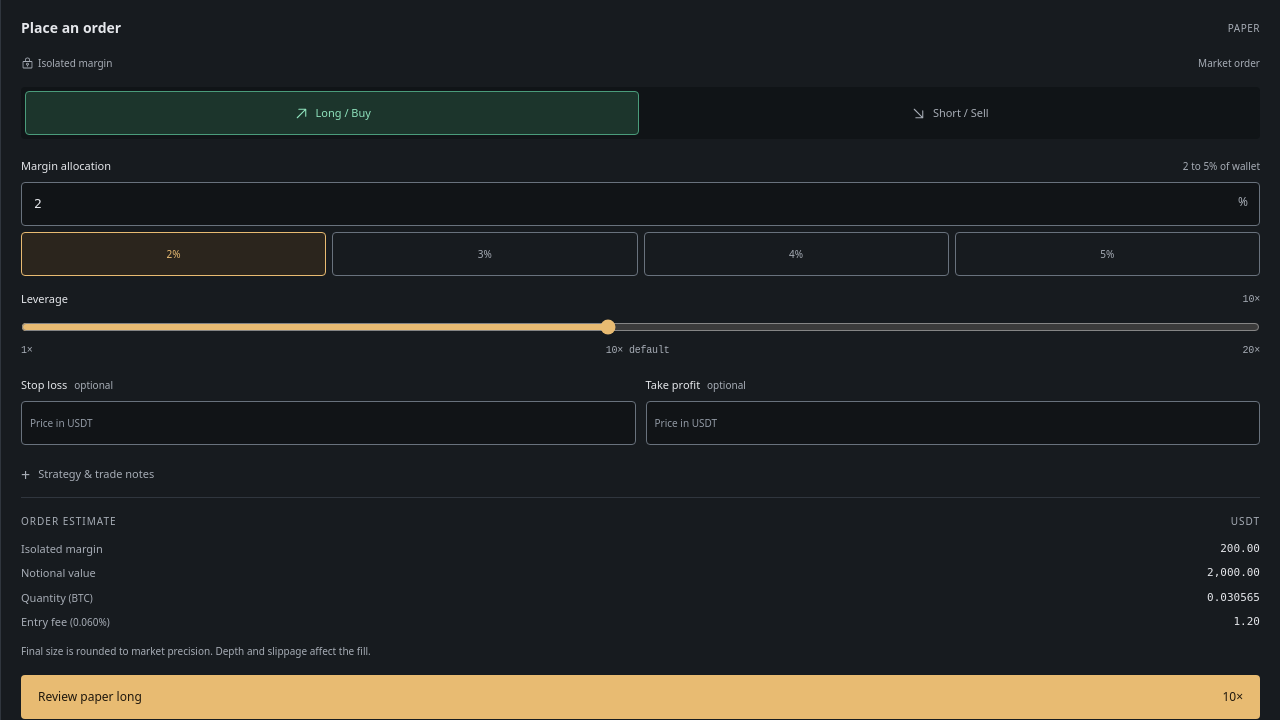
rejects invalid directional brackets
The image size is (1280, 720).
Type "66000" into the number field labelled "Stop loss optional" at (328, 423), box [21, 401, 636, 445]
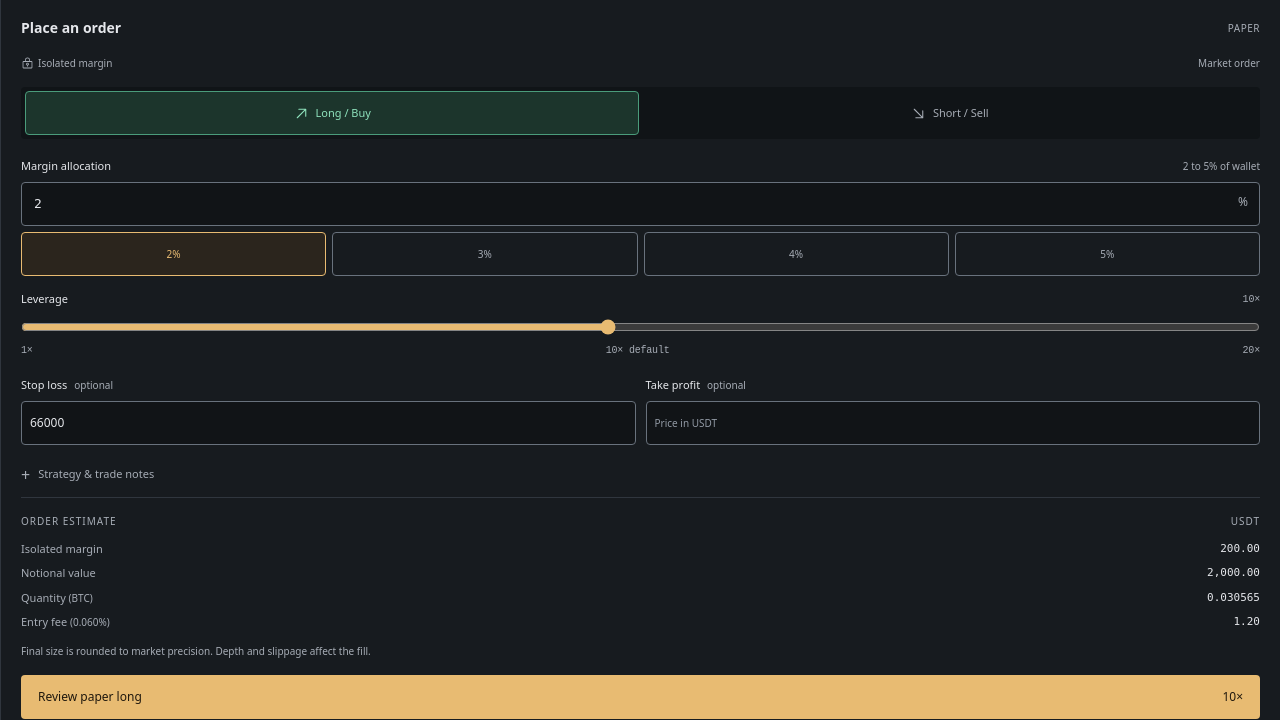
Click the button "Review paper long 10×" at (77, 696), box [21, 675, 1260, 719]
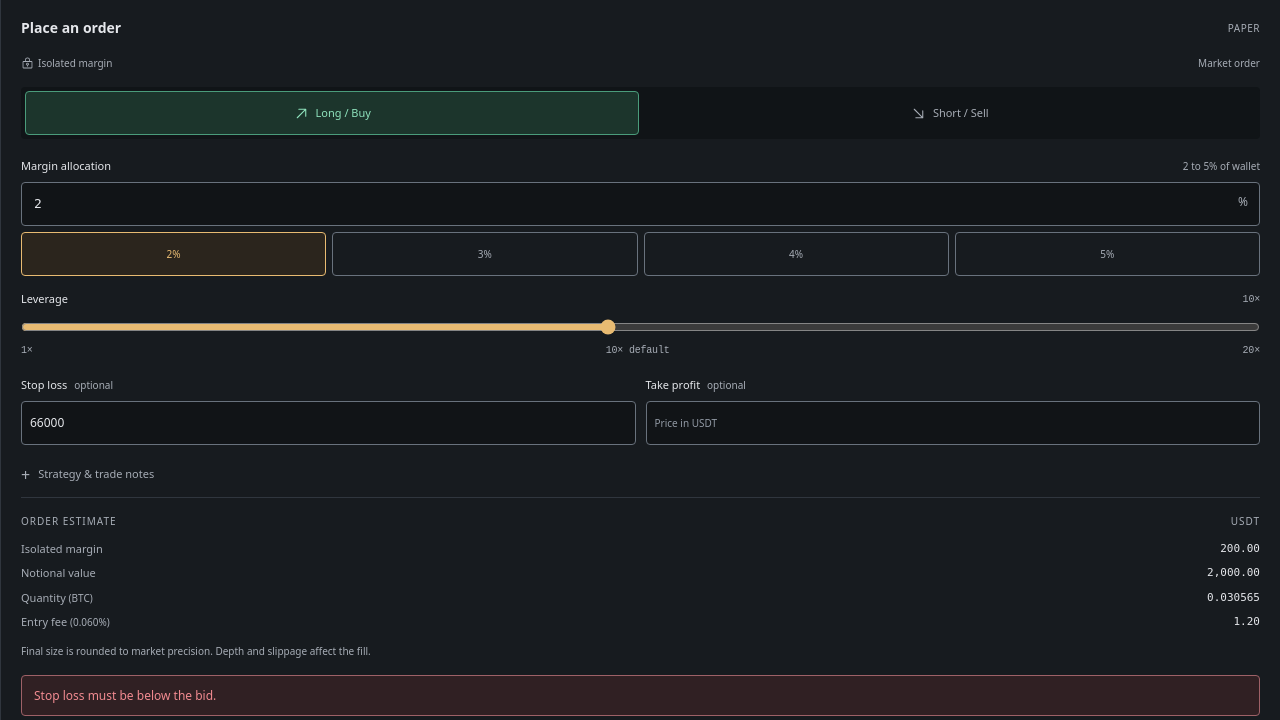
expect the message shows "below the bid": met, box [34, 687, 216, 704]
